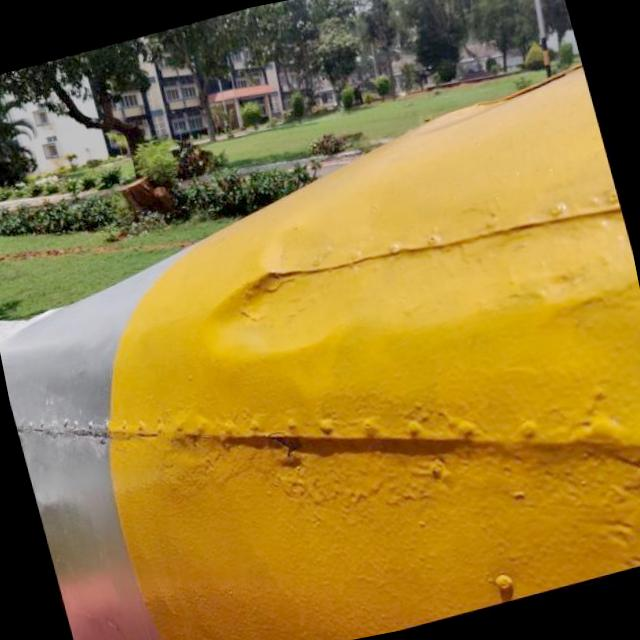dent: (195, 254, 385, 369)
